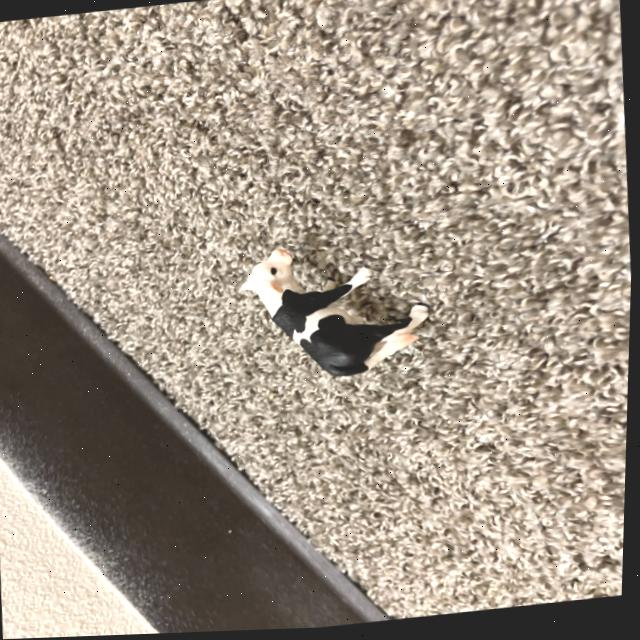cow: (229, 218, 436, 406)
